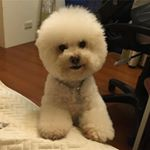puppy: (26, 4, 122, 146)
